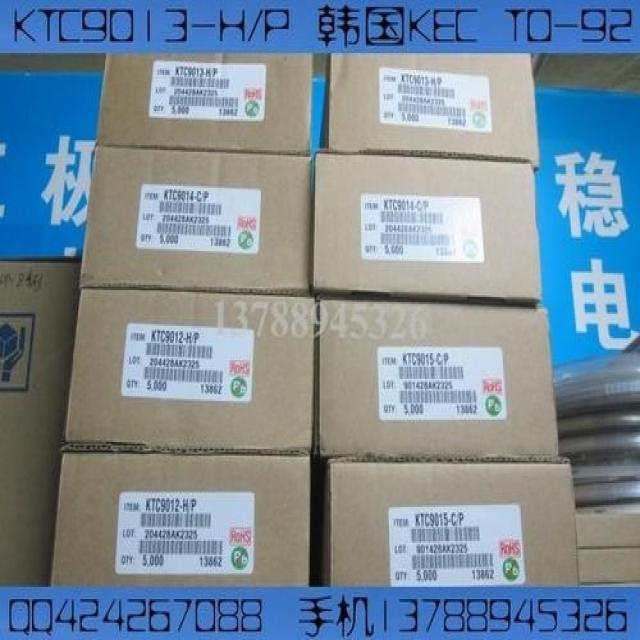box: (63, 283, 315, 452), (311, 294, 561, 463), (49, 445, 312, 589), (310, 456, 580, 589), (82, 145, 315, 299), (315, 150, 540, 305), (0, 258, 83, 589), (316, 51, 539, 164), (95, 55, 314, 154)
